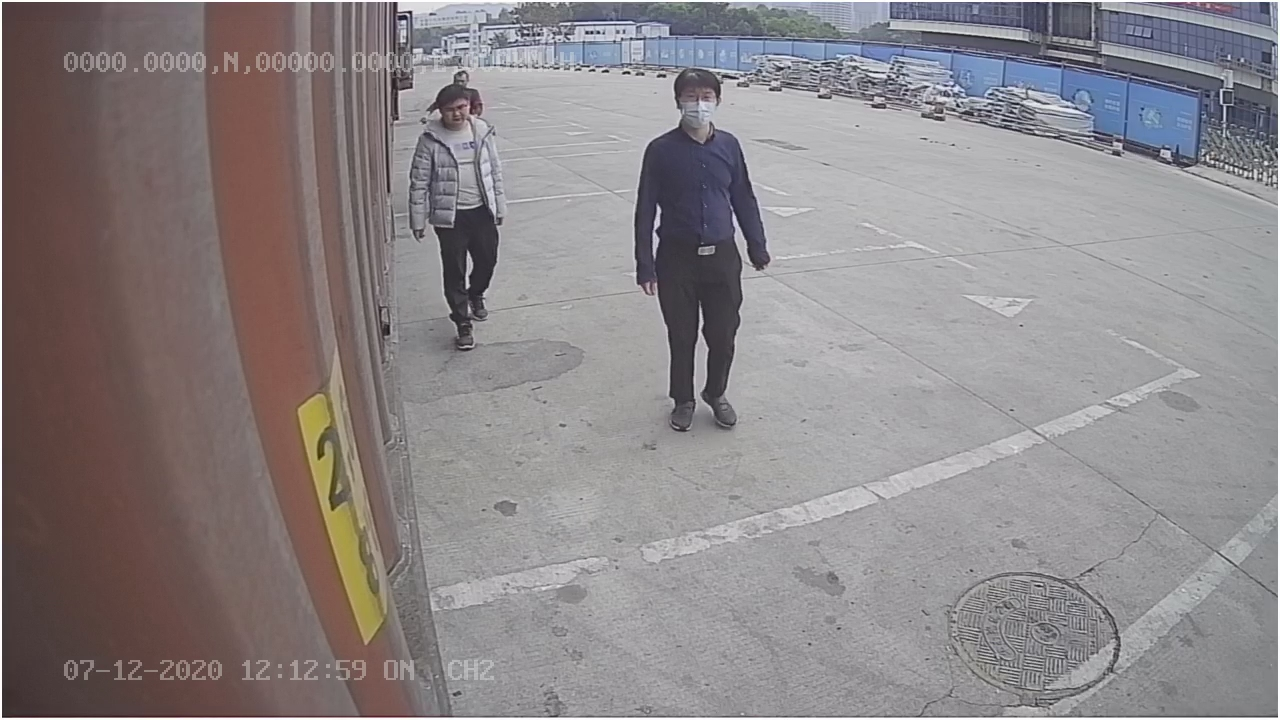person: (634, 67, 767, 431)
